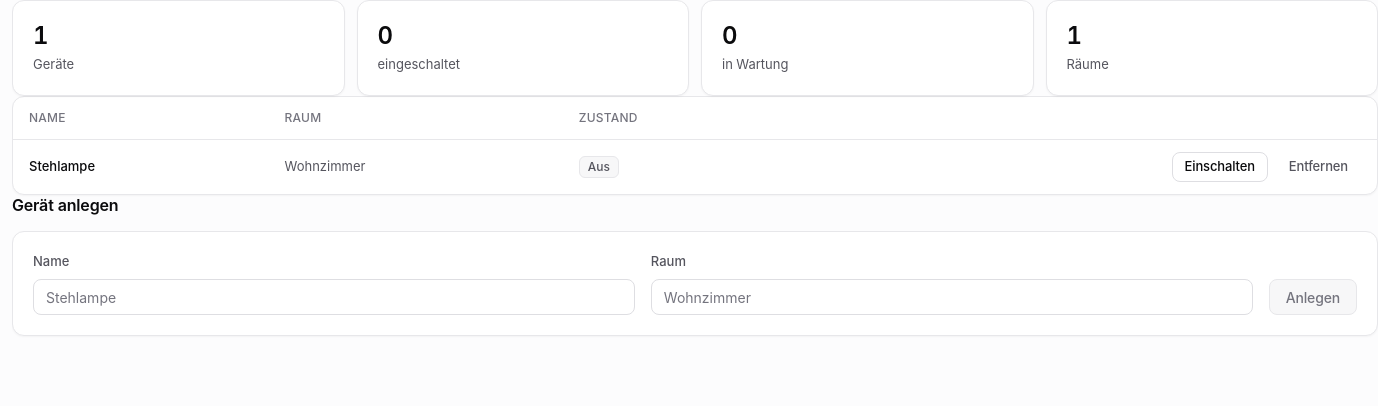
Test: Geräteseite › ersetzt die Liste nicht durch eine Fehlerseite, wenn eine Aktion scheitert
Click the button "Entfernen".
click(1318, 166)  # box left=1276, top=152, right=1361, bottom=182
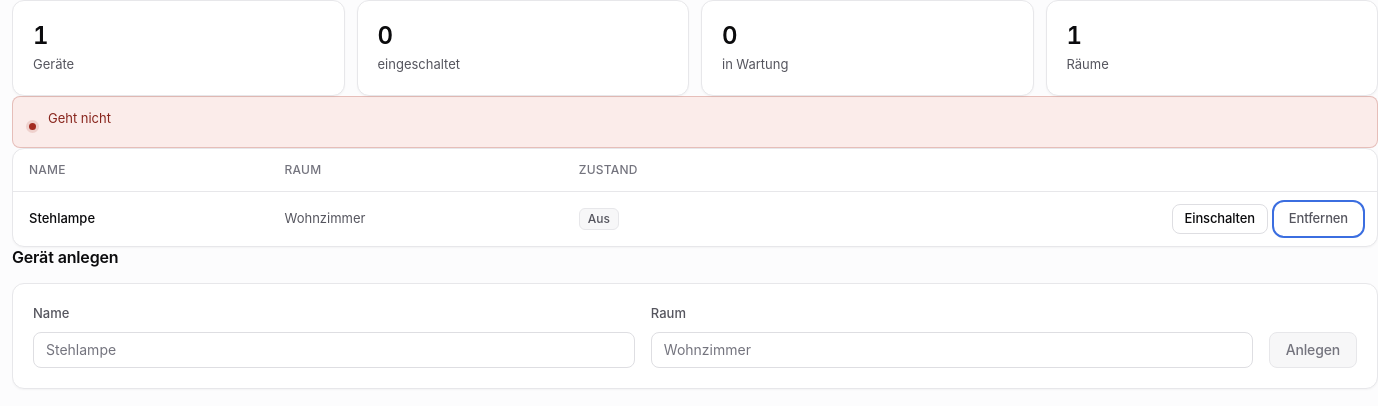
Expected: the table is shown, left=13, top=149, right=1377, bottom=246
Result: the message "Geht nicht" is shown at left=12, top=96, right=1377, bottom=148
